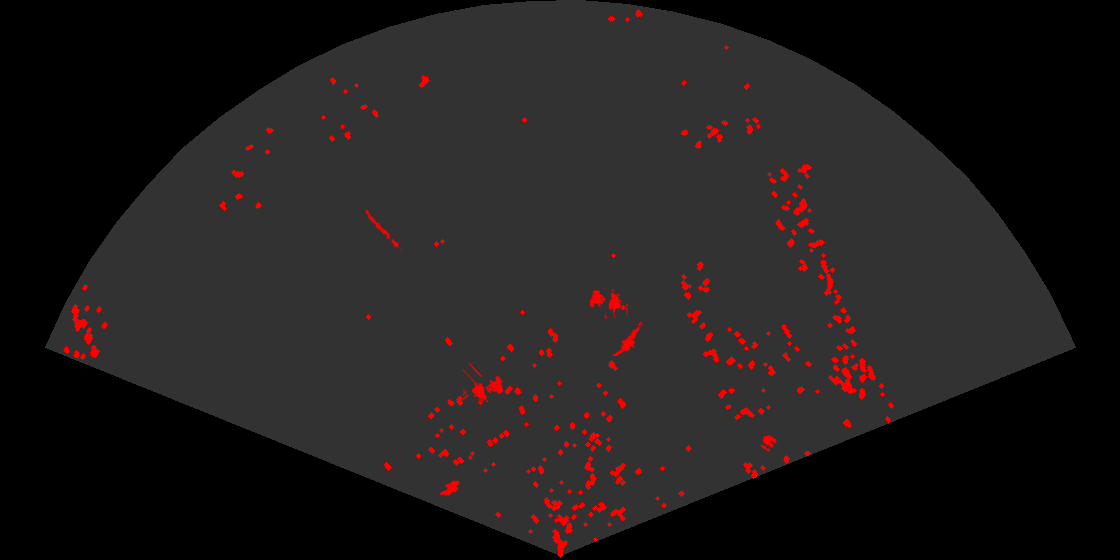AUV: (438, 479, 461, 497)
ball: (759, 433, 778, 453)
cage: (463, 363, 505, 404), (588, 288, 628, 319)
chain: (364, 208, 402, 254)
frogman: (613, 324, 646, 356)
